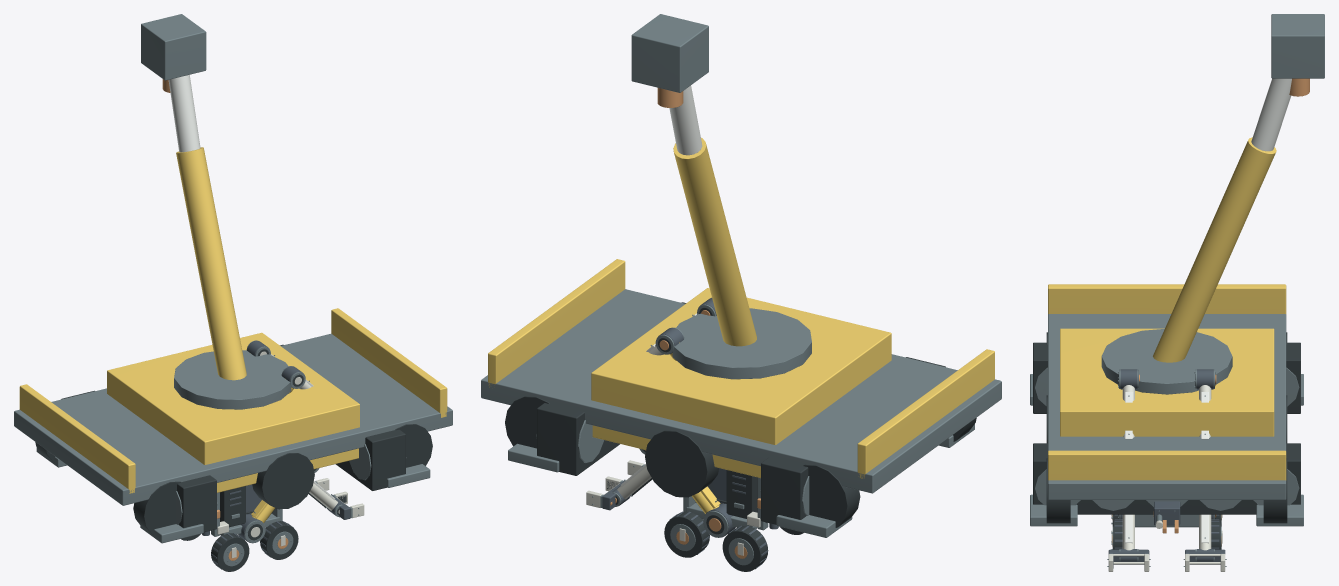
The model's file is construction-robots.glb.
The picture shows the model from 3 angles, left to right: view 1: azimuth 30°, elevation 25°; view 2: azimuth 150°, elevation 25°; view 3: azimuth 270°, elevation 25°; orthographic projection. The views are drawn at different scales.
Parts seen in each view (by area): view 1: cargo_deck, body, cargo_rover__Shell, boom, cargo_rover__Rubber, slew_ring, ground_builder__Rubber, rotary_pile_head, ground_builder__Steel, stick, assembler__Rubber, wheel_tyre.006 (+1 smaller); view 2: cargo_deck, body, cargo_rover__Shell, cargo_rover__Rubber, boom, slew_ring, ground_builder__Rubber, rotary_pile_head, ground_builder__Steel, stick, assembler__Rubber, wheel_tyre.004 (+1 smaller); view 3: body, cargo_deck, cargo_rover__Shell, boom, slew_ring, ground_builder__Rubber, ground_builder__Steel, rotary_pile_head, stick, cargo_rover__Rubber, tool_wrist__Clamps, assembler__Steel (+2 smaller).
Part boxes in pixels (left/top/right/bottom): cargo_deck: left=14, top=333, right=452, bottom=505; body: left=107, top=332, right=359, bottom=492; cargo_rover__Shell: left=19, top=308, right=447, bottom=493; boom: left=176, top=147, right=246, bottom=380; cargo_rover__Rubber: left=35, top=424, right=432, bottom=534; slew_ring: left=174, top=350, right=291, bottom=409; ground_builder__Rubber: left=61, top=344, right=405, bottom=532; rotary_pile_head: left=141, top=14, right=206, bottom=80; ground_builder__Steel: left=36, top=444, right=430, bottom=543; stick: left=168, top=75, right=200, bottom=152; assembler__Rubber: left=220, top=486, right=254, bottom=527; wheel_tyre.006: left=211, top=533, right=249, bottom=571; cargo_deck: left=481, top=289, right=1001, bottom=493; body: left=591, top=288, right=891, bottom=477; cargo_rover__Shell: left=488, top=259, right=994, bottom=478; cargo_rover__Rubber: left=505, top=396, right=976, bottom=527; boom: left=673, top=137, right=756, bottom=346; slew_ring: left=672, top=308, right=811, bottom=379; ground_builder__Rubber: left=537, top=302, right=945, bottom=524; rotary_pile_head: left=631, top=14, right=708, bottom=92; ground_builder__Steel: left=508, top=420, right=974, bottom=537; stick: left=669, top=85, right=702, bottom=155; assembler__Rubber: left=716, top=470, right=757, bottom=518; wheel_tyre.004: left=722, top=526, right=768, bottom=571; body: left=1060, top=328, right=1274, bottom=436; cargo_deck: left=1048, top=314, right=1286, bottom=499; cargo_rover__Shell: left=1048, top=284, right=1286, bottom=480; boom: left=1153, top=137, right=1276, bottom=362; slew_ring: left=1101, top=329, right=1232, bottom=394; ground_builder__Rubber: left=1033, top=342, right=1300, bottom=514; ground_builder__Steel: left=1030, top=367, right=1303, bottom=526; rotary_pile_head: left=1271, top=14, right=1324, bottom=78; stick: left=1251, top=78, right=1291, bottom=151; cargo_rover__Rubber: left=1046, top=332, right=1287, bottom=523; tool_wrist__Clamps: left=1154, top=501, right=1180, bottom=525; assembler__Steel: left=1135, top=514, right=1198, bottom=527.
Size of the model in its own units: 3.5 by 4.82 by 2.47.
